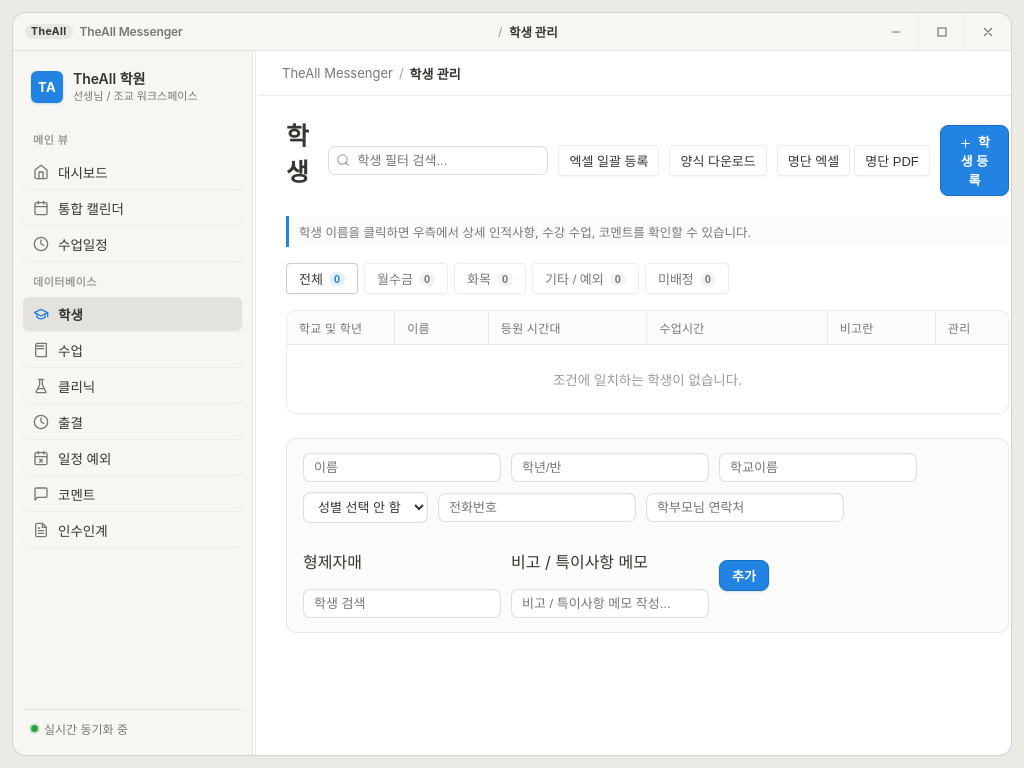
Test: App › shows the students tab by default and switches to classes on click
Expected: the heading "학생" is shown, [286,121,308,187]
Click the button "수업".
click(132, 350)  # box [23,333,242,367]
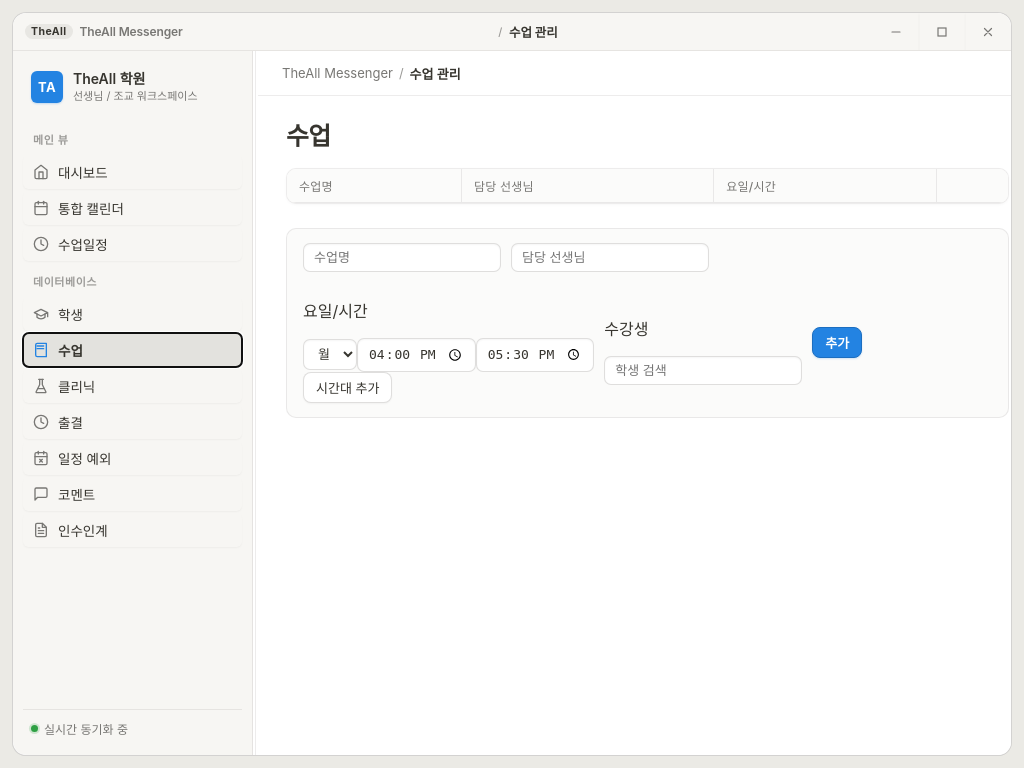
Expected: the column heading "담당 선생님" is shown, [462,169,714,203]
